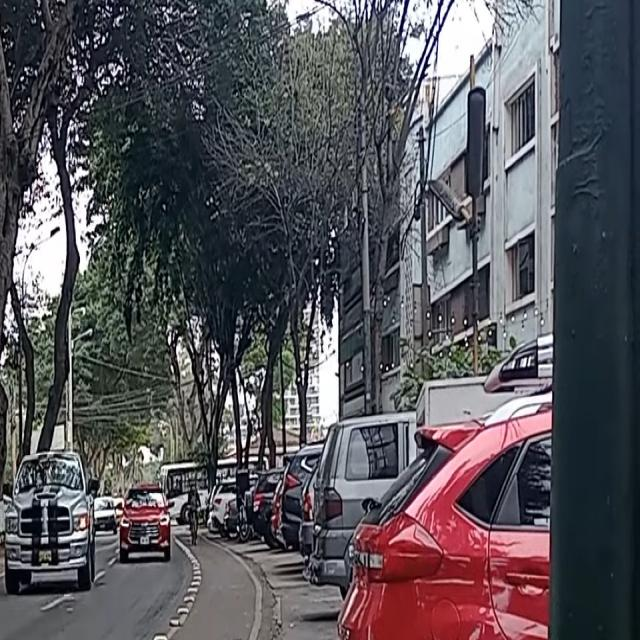car: (3, 451, 98, 595), (118, 482, 173, 562)
